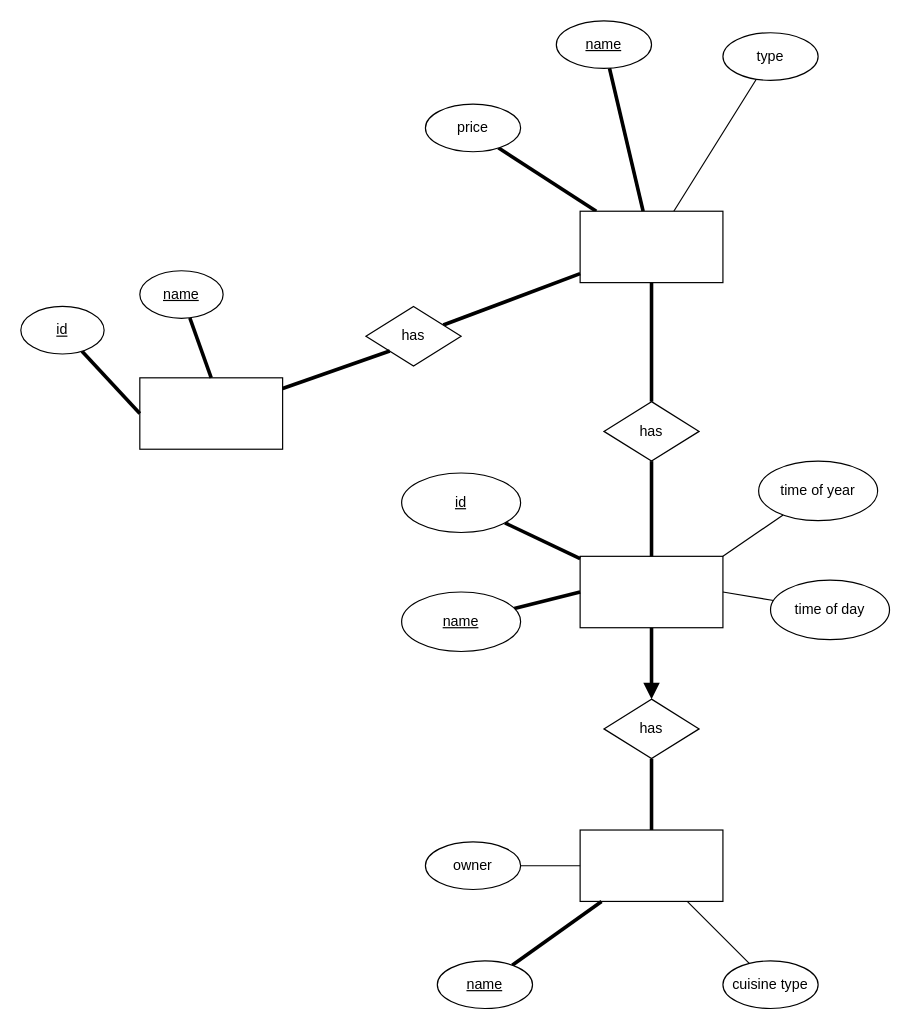
Image size: 910x1029. Some labels were removed from this diagram. Each missing label, with the centre of its shape:
"Food item" goes at (651,246).
"Ingredient" goes at (211,413).
"Menu" goes at (651,591).
"Restaurant" goes at (651,865).
